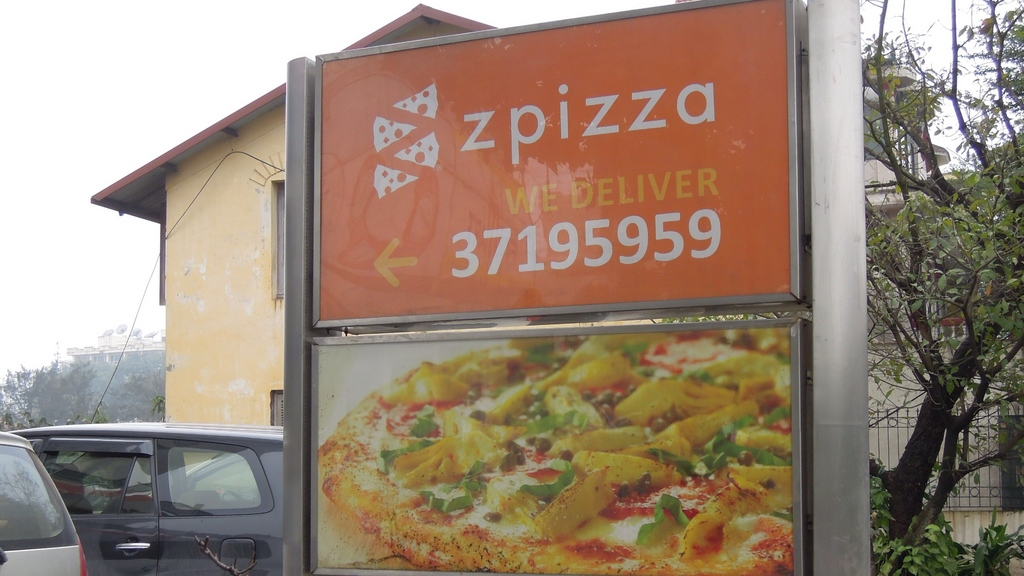Pizza: (312, 320, 798, 576)
